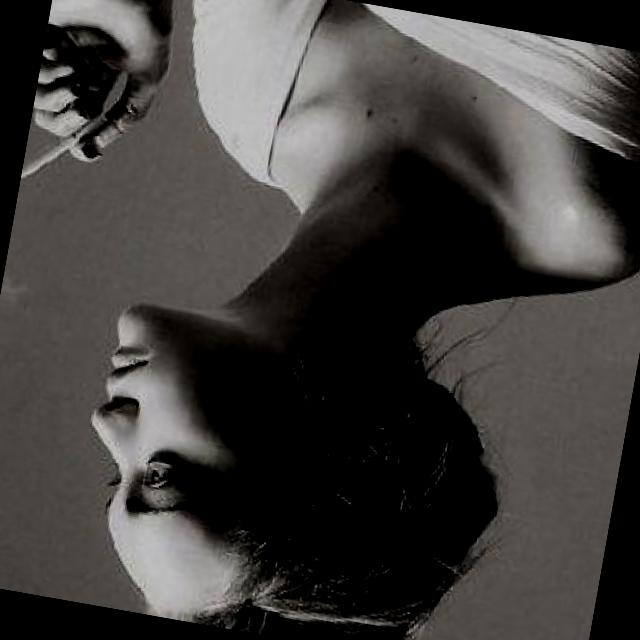smoke: (19, 104, 108, 195)
